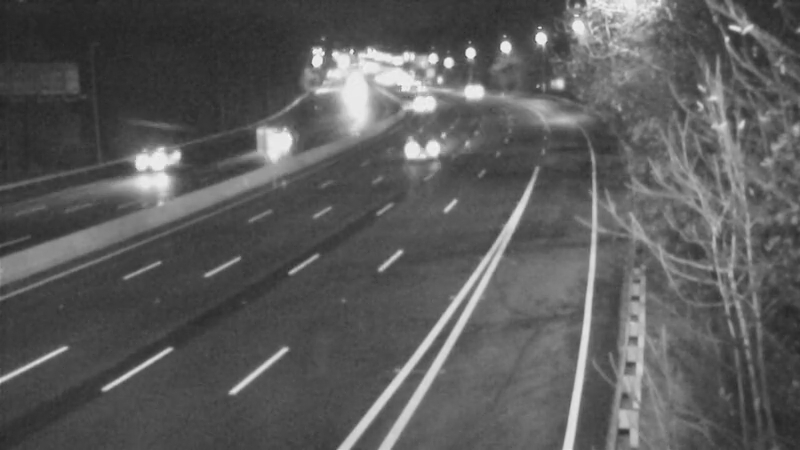vehicle: (117, 123, 197, 203), (444, 66, 494, 116), (397, 74, 447, 124), (393, 116, 443, 166), (256, 124, 306, 174)
